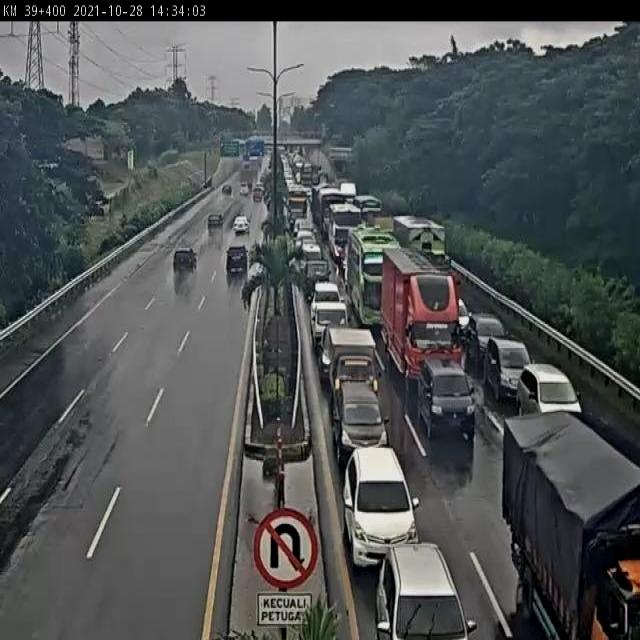Bus: (353, 225, 407, 328), (262, 187, 272, 210)
Car: (372, 541, 474, 637), (341, 444, 419, 567), (416, 354, 475, 439), (332, 377, 388, 465), (321, 326, 377, 400), (516, 362, 579, 419), (483, 337, 531, 404), (463, 313, 506, 374), (310, 284, 346, 341), (312, 279, 340, 306), (226, 245, 248, 275), (457, 297, 471, 339), (173, 247, 198, 270), (295, 228, 315, 248), (232, 216, 250, 234), (208, 214, 224, 231), (253, 187, 263, 202), (240, 182, 250, 195), (222, 184, 232, 194)
Truck: (502, 411, 640, 640), (376, 250, 456, 362), (392, 215, 448, 269), (332, 224, 351, 260), (338, 182, 357, 204), (280, 153, 292, 181), (282, 200, 292, 230), (301, 163, 314, 186), (286, 152, 299, 170), (293, 158, 304, 178), (293, 237, 304, 255), (302, 188, 312, 206), (268, 162, 278, 178), (318, 171, 329, 185), (264, 140, 276, 152), (243, 160, 251, 170), (282, 146, 290, 155), (243, 152, 249, 162), (268, 158, 273, 170)
